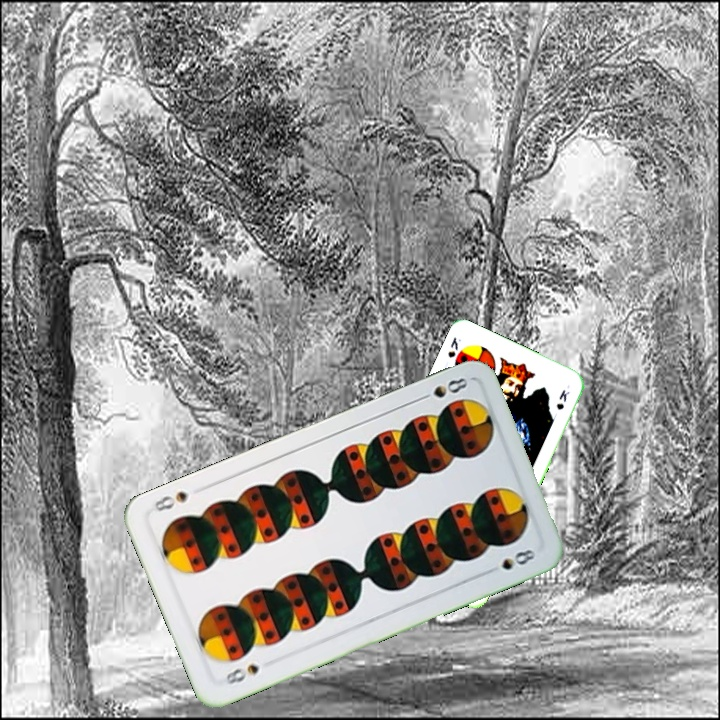S8: (413, 373, 471, 404), (222, 660, 262, 687)
SK: (444, 333, 464, 360)
